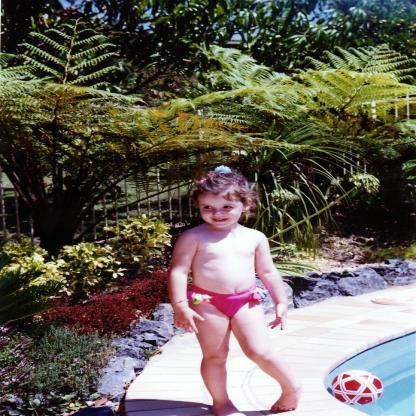Ball: (327, 370, 379, 405)
